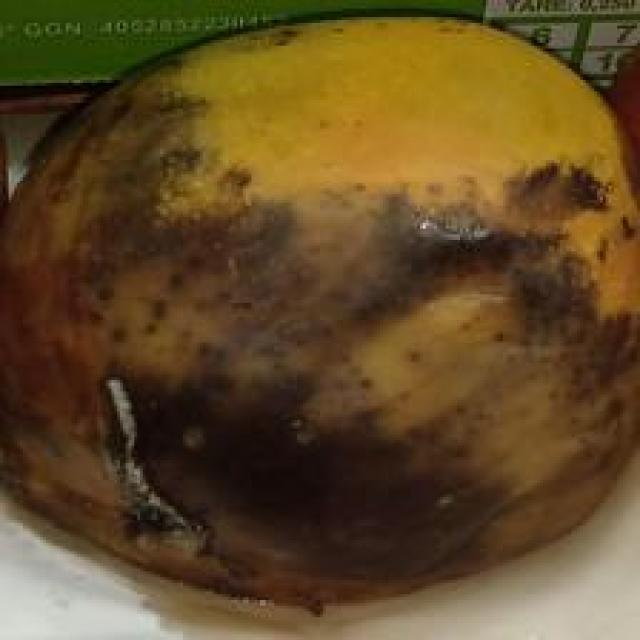Bad_Mango: (0, 21, 640, 606)
